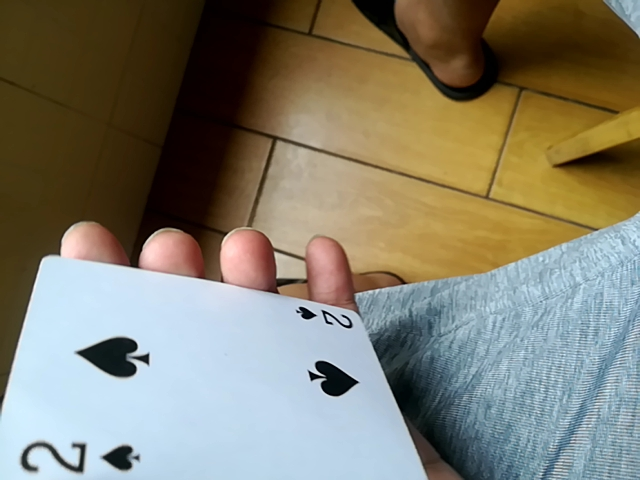ht 2: (0, 245, 426, 478)
